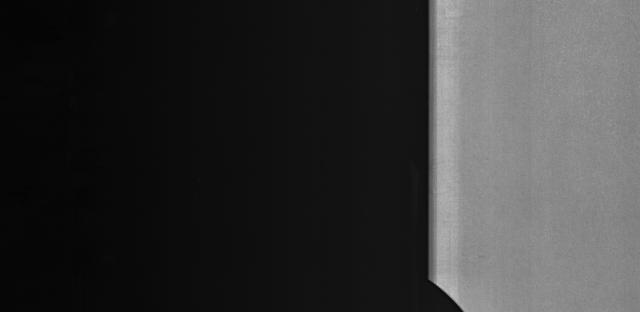crescent_gap: (418, 259, 476, 312)
